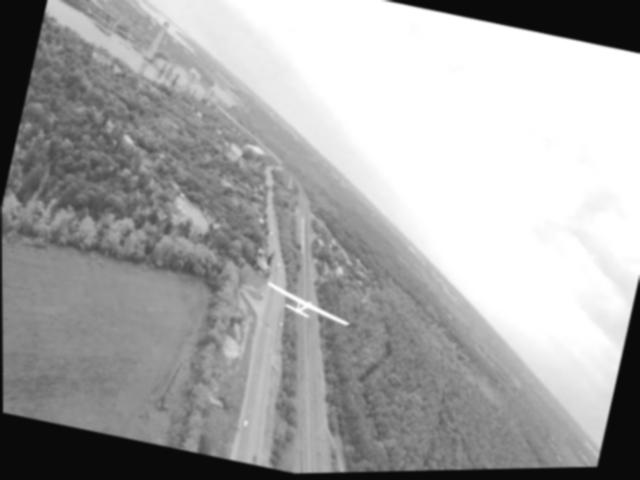hedef: (244, 274, 370, 345)
